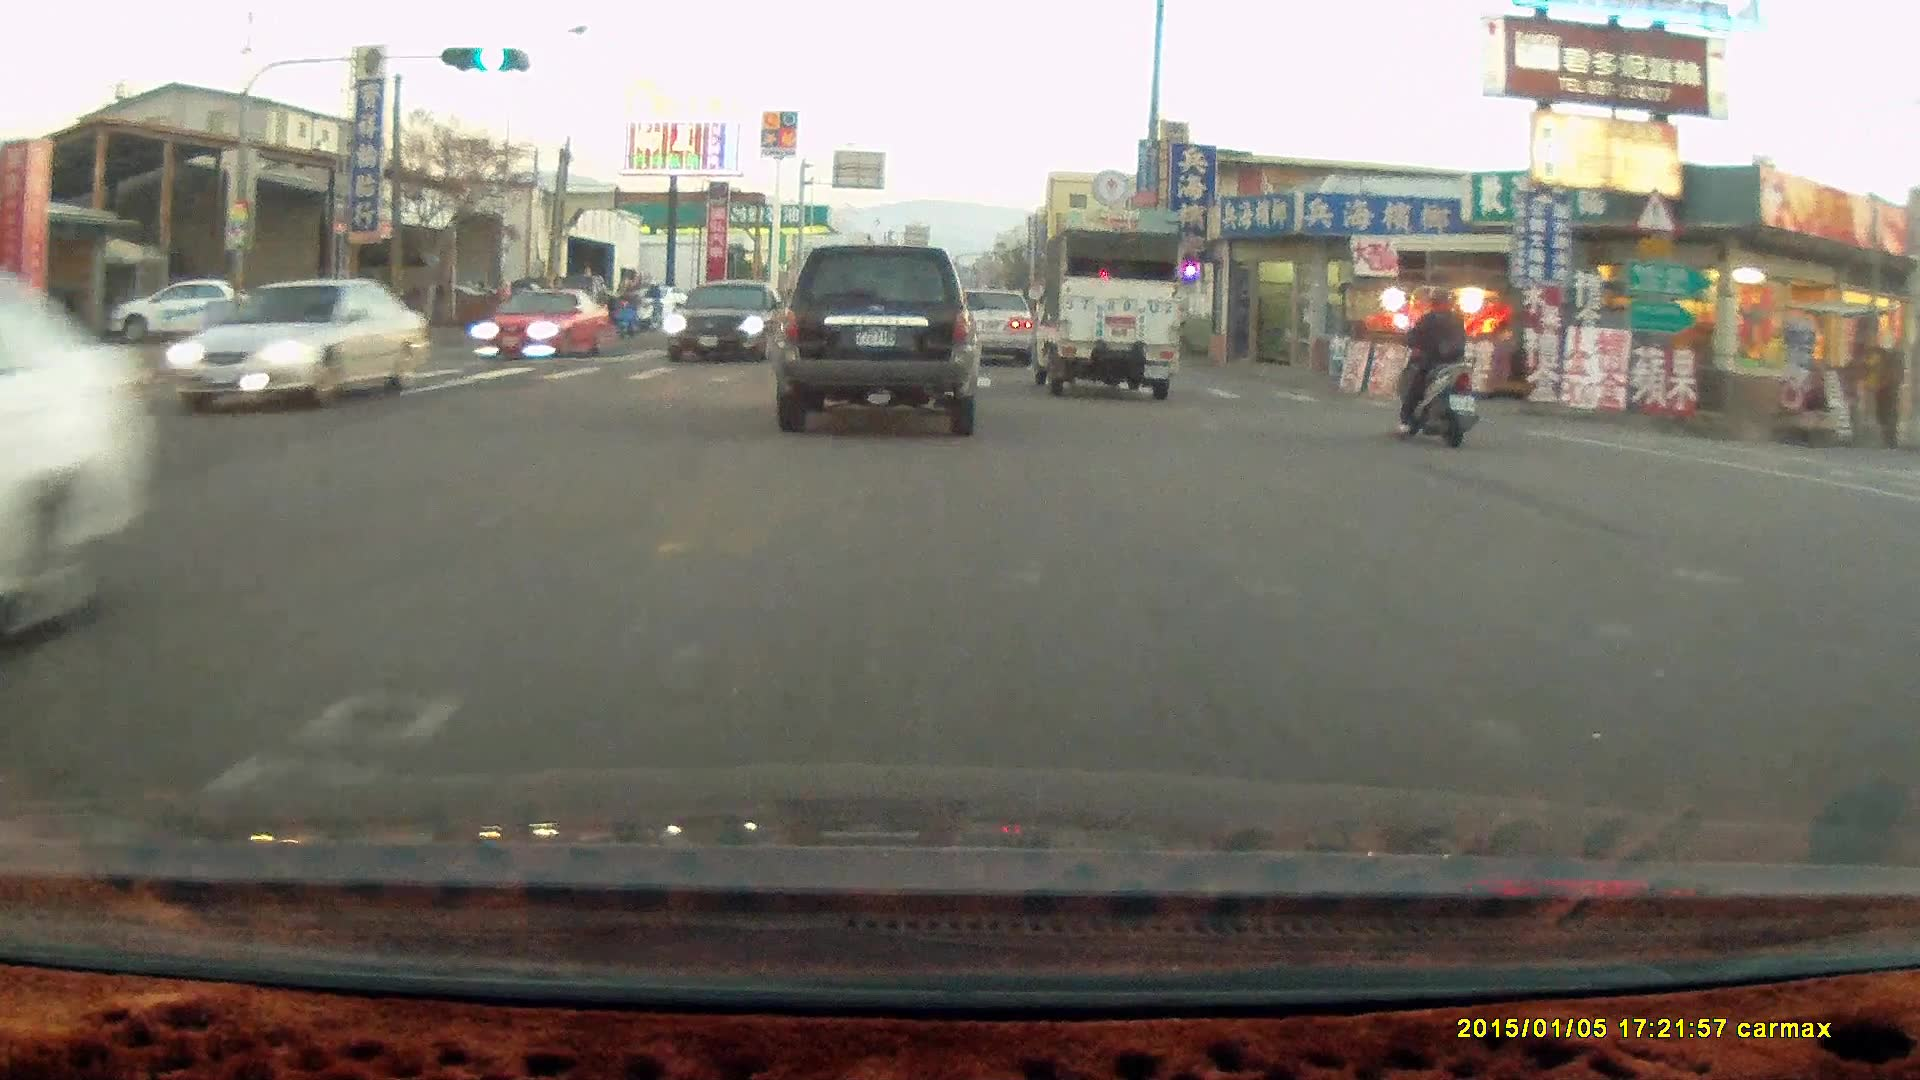rider: (1389, 282, 1477, 445), (609, 286, 645, 340), (632, 282, 666, 336)
vehicle: (773, 244, 985, 435), (165, 279, 433, 415), (1024, 227, 1178, 400), (666, 278, 803, 367), (480, 287, 609, 363), (105, 281, 269, 340), (945, 287, 1034, 367), (959, 293, 1039, 367)
